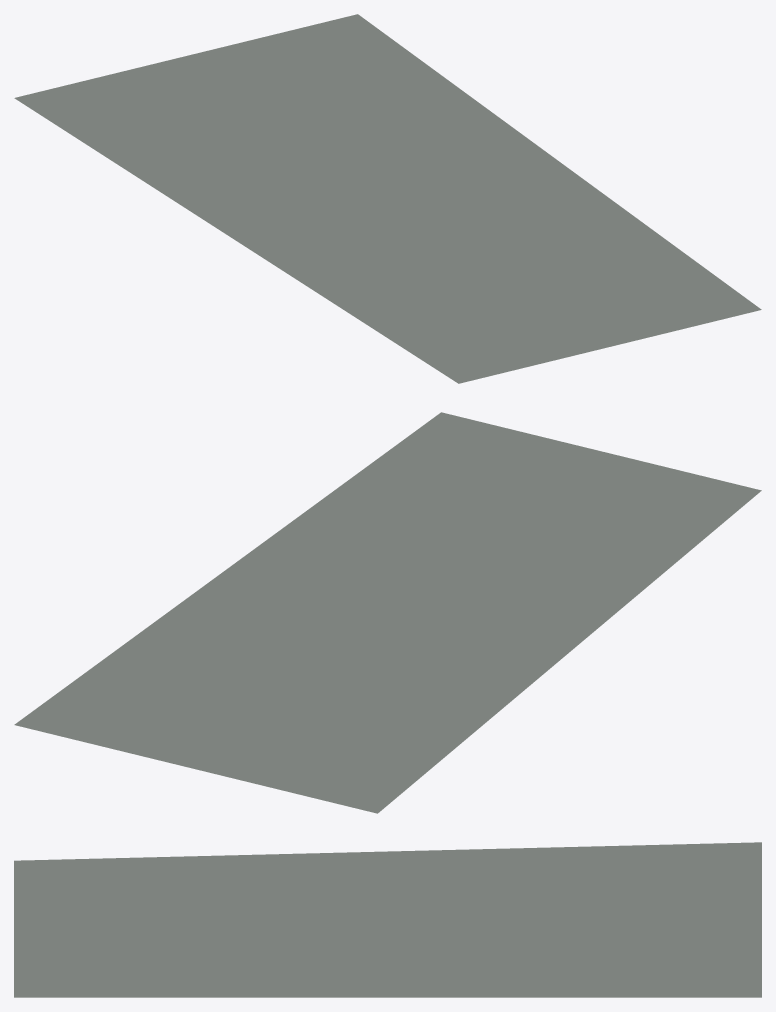
The model's file is kd_stage_135b75_4_93_bounded_portal_piece_5.glb.
The picture shows the model from 3 angles, top to bottom: view 1: azimuth 30°, elevation 25°; view 2: azimuth 150°, elevation 25°; view 3: azimuth 270°, elevation 25°; orthographic projection. The views are drawn at different scales.
Visible parts, largest first — view 1: kd_stage_135b75_4_93_bounded_portal_piece_5; view 2: kd_stage_135b75_4_93_bounded_portal_piece_5; view 3: kd_stage_135b75_4_93_bounded_portal_piece_5.
Boxes of the visible parts, x1=… form: kd_stage_135b75_4_93_bounded_portal_piece_5: x1=14, y1=14, x2=761, y2=383; kd_stage_135b75_4_93_bounded_portal_piece_5: x1=14, y1=412, x2=761, y2=813; kd_stage_135b75_4_93_bounded_portal_piece_5: x1=14, y1=842, x2=761, y2=997.
Size of the model in its own units: 0.0453 by 0 by 0.0921.
1 material, 1 textured.
